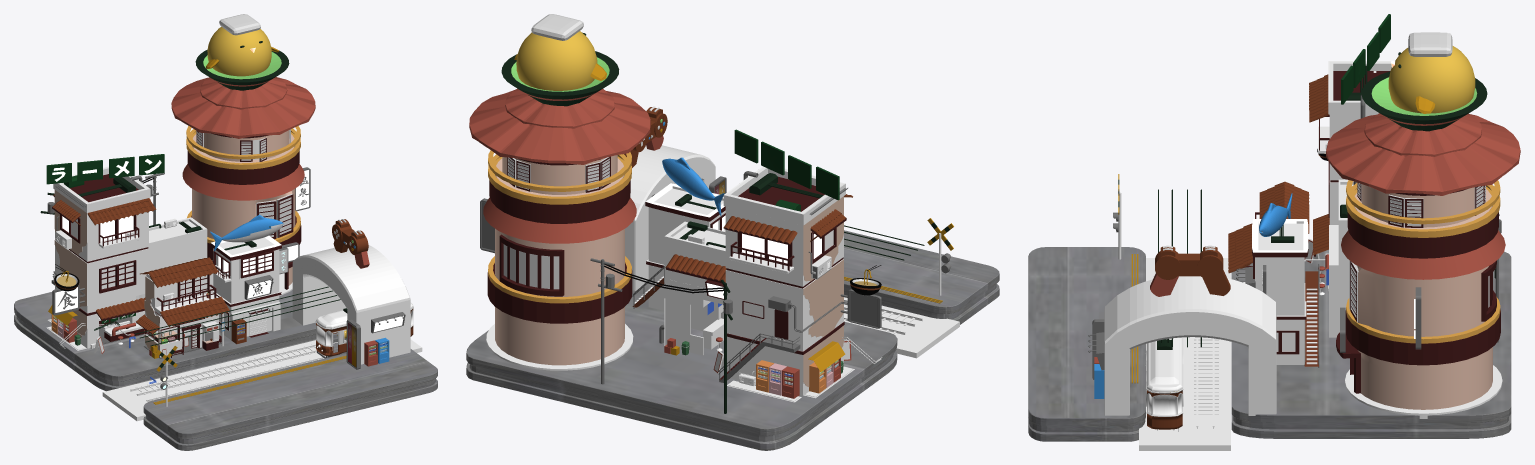
The model's file is FinalModel.glb.
3 renders of one model, left to right at view 1: azimuth 30°, elevation 25°; view 2: azimuth 150°, elevation 25°; view 3: azimuth 270°, elevation 25°, orthographic. The views are drawn at different scales.
Parts seen in each view (by area): view 1: Cube.008, Cube.198, Cube.013, Cube.055, Cylinder.070, Cylinder.071, Cube.048, Sphere.001, Cube.012, Cube.034, Cube.051, Plane.059 (+23 smaller); view 2: Cube.013, Cylinder.070, Cube.198, Cylinder.071, Cube.008, Sphere.001, Cube.051, Cube.055, Cube.048, Cylinder.073, Cylinder.074, Plane.059 (+17 smaller); view 3: Cylinder.070, Cube.008, Cube.013, Cube.055, Cylinder.071, Sphere.001, Cube.012, Cube.048, Cylinder.073, Cylinder.074, Cube.198, Cylinder.041 (+13 smaller).
Boxes of the visible parts, <box> form: Cube.008: <box>143,349,437,450</box>; Cube.198: <box>53,166,150,348</box>; Cube.013: <box>14,290,337,391</box>; Cube.055: <box>292,245,410,364</box>; Cylinder.070: <box>182,130,304,289</box>; Cylinder.071: <box>171,77,315,138</box>; Cube.048: <box>210,235,281,340</box>; Sphere.001: <box>195,27,289,90</box>; Cube.012: <box>102,339,422,421</box>; Cube.034: <box>146,273,219,357</box>; Cube.051: <box>148,217,207,271</box>; Plane.059: <box>46,154,164,184</box>; Cube.013: <box>466,283,897,450</box>; Cylinder.070: <box>483,155,636,365</box>; Cube.198: <box>723,166,845,395</box>; Cylinder.071: <box>469,88,650,164</box>; Cube.008: <box>843,230,999,324</box>; Sphere.001: <box>501,31,619,106</box>; Cube.051: <box>664,221,725,355</box>; Cube.055: <box>625,145,715,290</box>; Cube.048: <box>645,183,725,312</box>; Cylinder.073: <box>487,262,632,323</box>; Cylinder.074: <box>488,150,631,204</box>; Plane.059: <box>734,129,839,200</box>; Cylinder.070: <box>1336,184,1505,409</box>; Cube.008: <box>1028,247,1145,441</box>; Cube.013: <box>1231,249,1511,438</box>; Cube.055: <box>1104,276,1276,415</box>; Cylinder.071: <box>1326,113,1520,195</box>; Sphere.001: <box>1361,46,1487,131</box>; Cube.012: <box>1139,258,1230,450</box>; Cube.048: <box>1252,219,1308,364</box>; Cylinder.073: <box>1345,309,1500,365</box>; Cylinder.074: <box>1346,180,1500,237</box>; Cube.198: <box>1318,61,1394,291</box>; Cylinder.041: <box>1150,245,1230,296</box>.
Size of the model in its own units: 68.25 by 60.59 by 73.07.
Materials: 52 (2 with a texture image).
